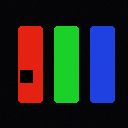1 square: (20, 70, 32, 82)
